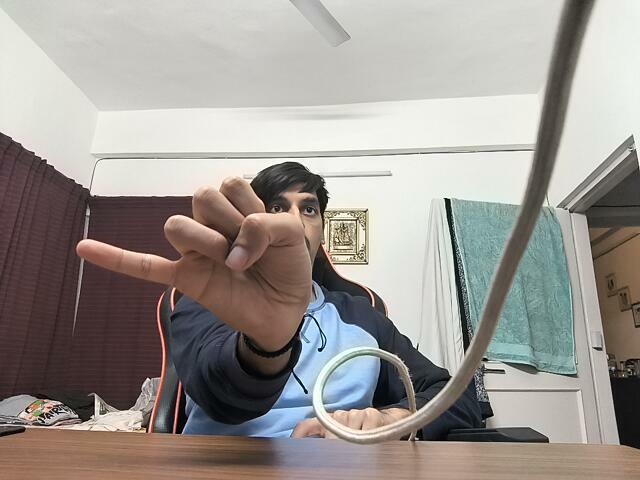RIGHT: (74, 175, 323, 353)
